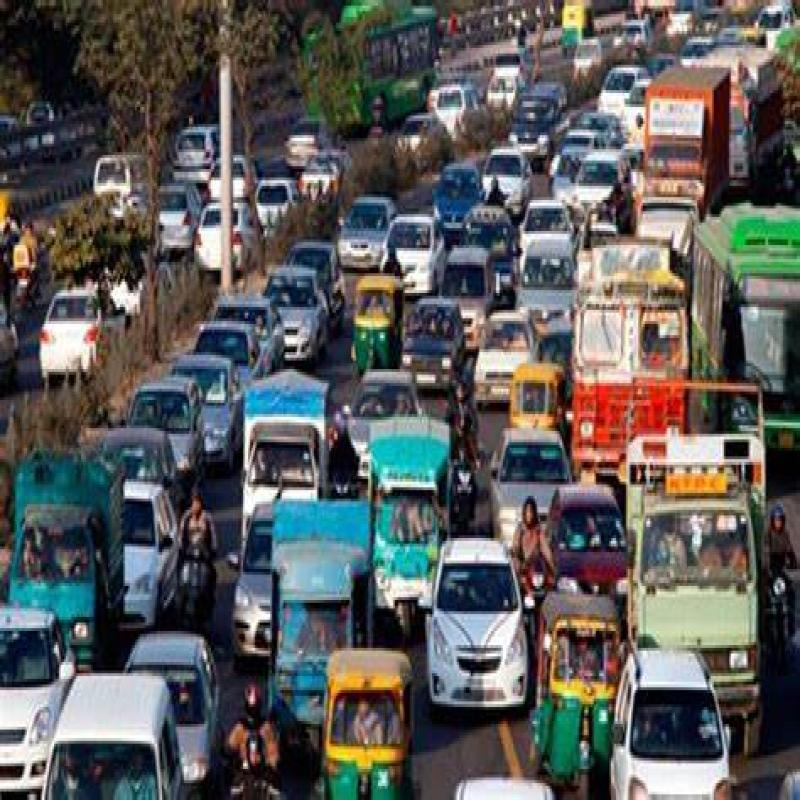auto: (330, 636, 412, 800), (547, 588, 612, 784), (355, 266, 403, 377)
car: (432, 538, 525, 722), (63, 662, 183, 800), (625, 646, 726, 800), (118, 481, 176, 657), (249, 415, 329, 541), (0, 602, 53, 787), (121, 385, 218, 480), (267, 260, 335, 377), (475, 300, 528, 428), (524, 250, 591, 336), (406, 302, 461, 404), (194, 314, 256, 398), (436, 160, 488, 260), (340, 190, 390, 291), (394, 206, 440, 306), (509, 93, 562, 176), (573, 148, 615, 252)
